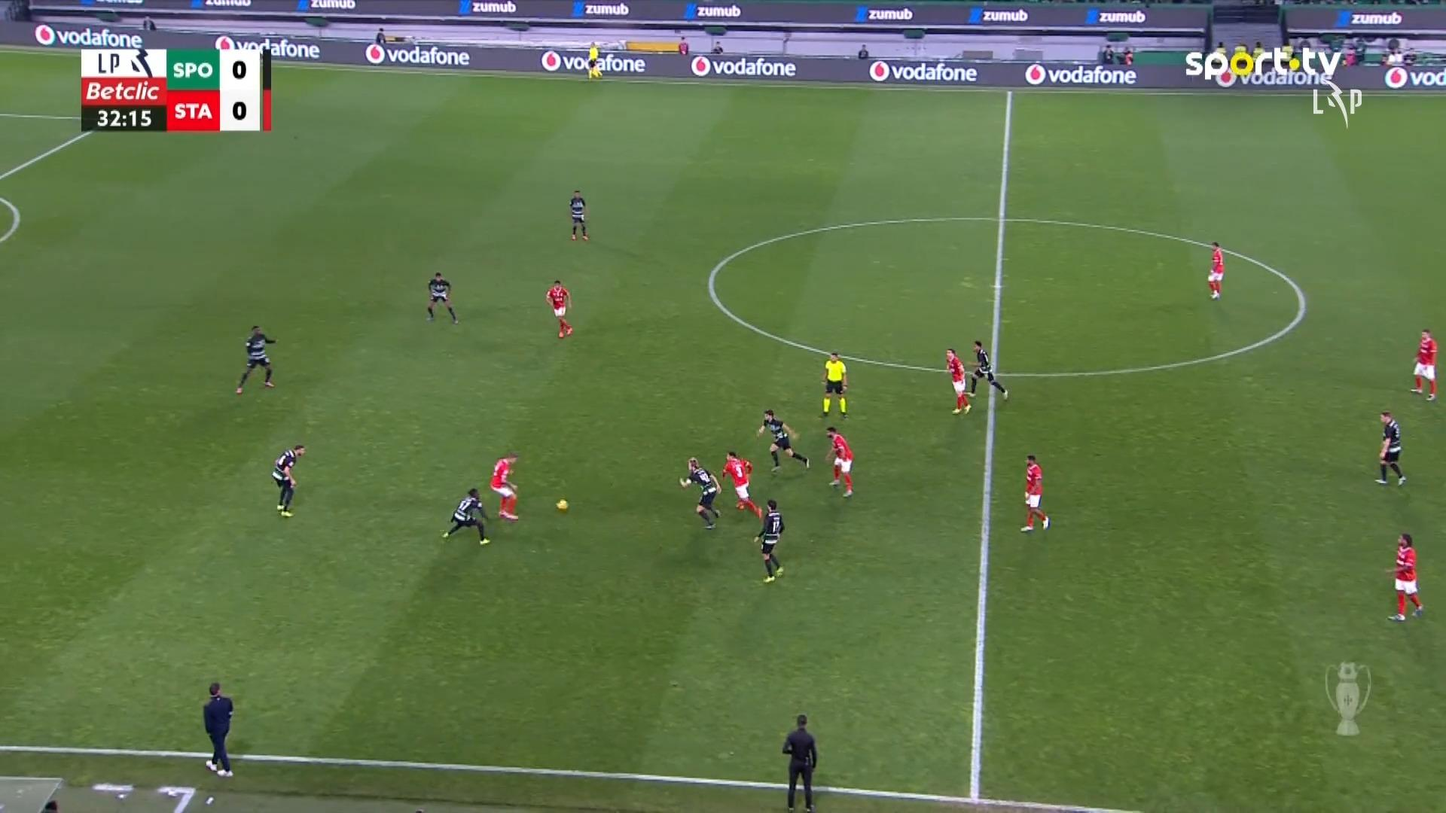ball: (555, 498, 568, 511), (775, 566, 783, 576)
player: (755, 409, 810, 473), (1385, 531, 1423, 621), (679, 456, 721, 529), (720, 449, 763, 518), (234, 324, 276, 394), (441, 487, 490, 545), (752, 498, 785, 583), (271, 443, 306, 517), (967, 340, 1009, 401), (1374, 410, 1406, 486), (1019, 454, 1050, 531), (824, 425, 854, 498), (490, 451, 520, 521), (1410, 327, 1437, 400), (425, 270, 458, 324), (944, 347, 970, 415), (545, 279, 572, 338), (1207, 241, 1225, 300), (568, 189, 588, 241)
referee: (782, 713, 817, 811), (203, 681, 234, 776), (819, 350, 849, 420), (586, 41, 602, 78)
